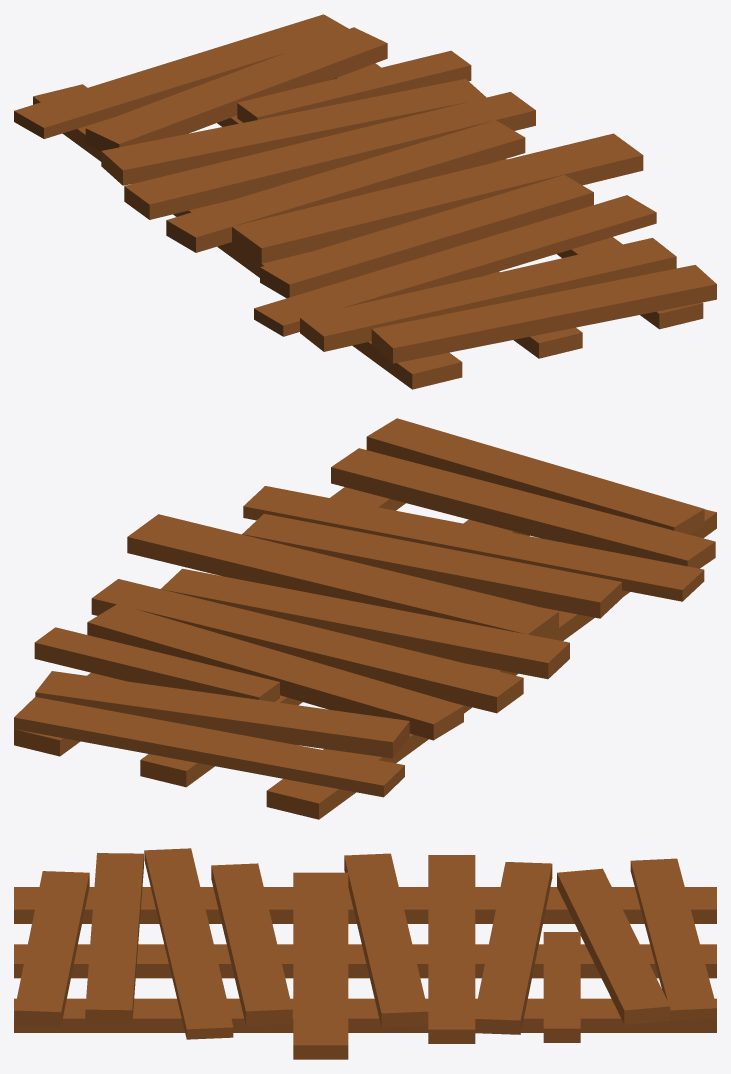
File: Walkway_Barricade_Wood_01.fbx
3 views of the same model, one above another, from view 1: azimuth 30°, elevation 25°; view 2: azimuth 150°, elevation 25°; view 3: azimuth 270°, elevation 25° (orthographic). The views are drawn at different scales.
Visible parts, largest first — view 1: Model; view 2: Model; view 3: Model.
Boxes of the visible parts, x1,y1,x2,y2 form: Model: [14, 14, 716, 389]; Model: [14, 418, 716, 819]; Model: [14, 848, 716, 1059].
Size of the model in its own units: 419 by 27.86 by 619.
